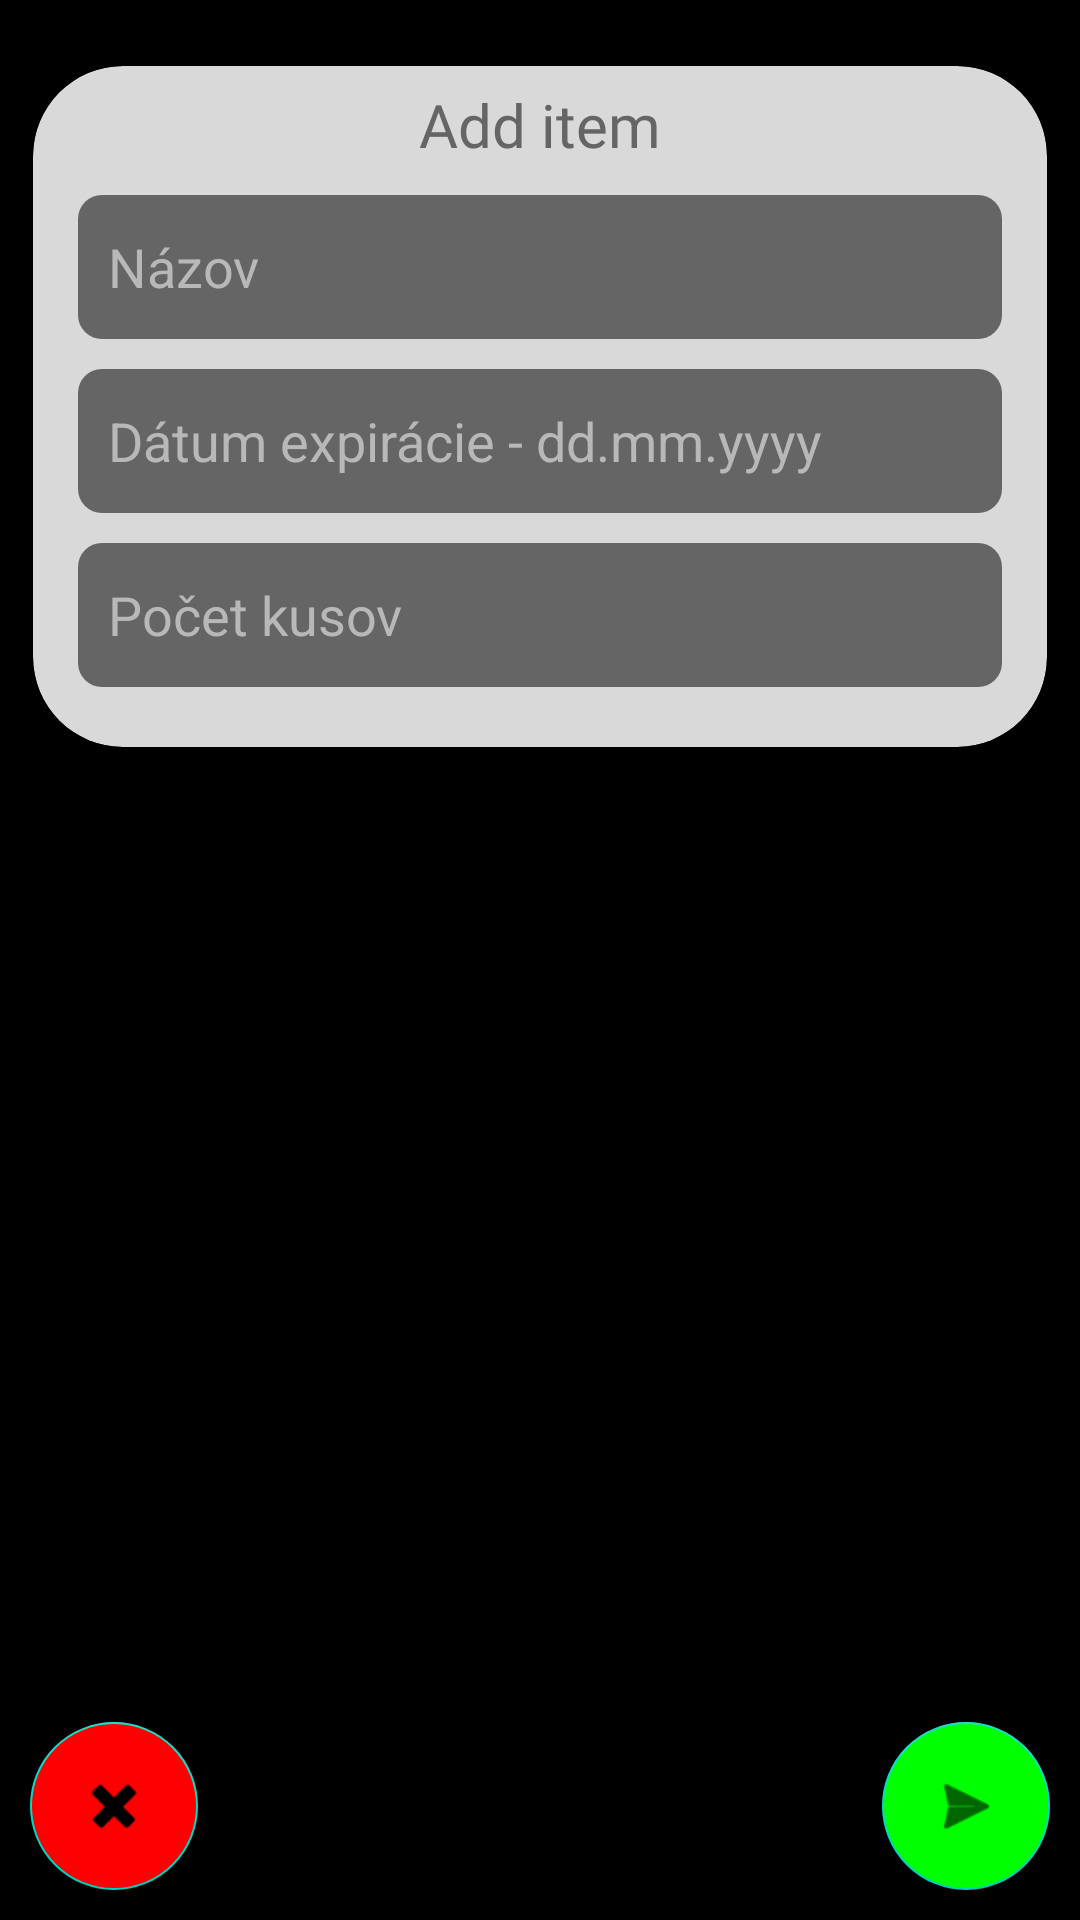

Named icons in this screenshot (1080x1920) and their bounding boxes, (x1, y1, x2, y2):
delete: (30, 1722, 198, 1890)
send: (882, 1722, 1050, 1890)
